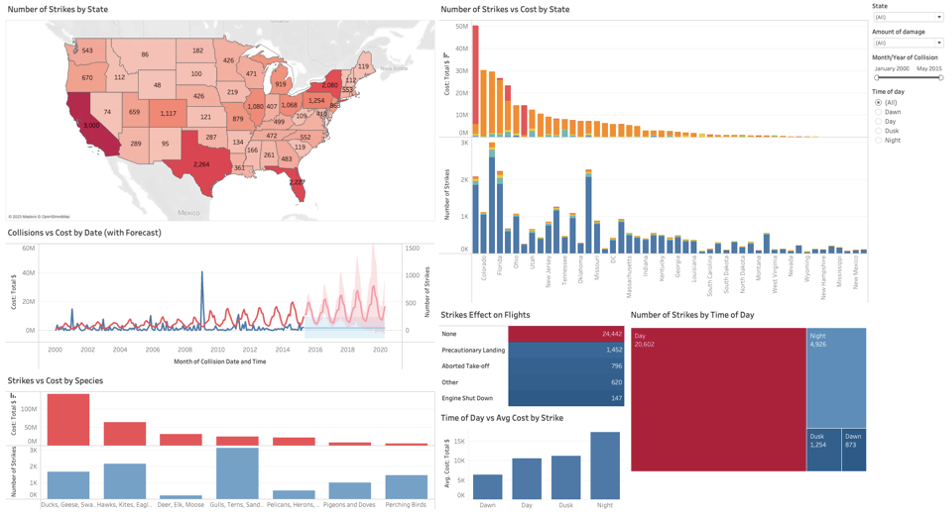

This screenshot's page, from the dashboard's own definition file:
{"tool":"tableau","page":{"name":"FAA Wildlife Strikes","canvas":[1000,1000],"units":"permille","ordinal":0},"visuals":[{"type":"worksheet","title":"Number of Strikes by State","mark":"Automatic","box":[5,9.4,446,427.7]},{"type":"worksheet","title":"Number of Strikes vs Cost by State","mark":"Automatic","rows":[" Total $","Number of Strikes"],"cols":["Origin State"],"box":[451,9.4,446.1,585.1]},{"type":"filter","title":"Number of Strikes by State","param":"[federated.020xm8v0aof4rc15dpkit0j4yc2a].[none:Origin State:nk]","box":[897.1,9.4,97.9,61.1]},{"type":"filter","title":"Number of Strikes vs Cost by State","param":"[federated.020xm8v0aof4rc15dpkit0j4yc2a].[none:Effect: Amount of damage (detaile","box":[897.1,70.5,97.9,61.1]},{"type":"filter","title":"Collision vs cost current and forecast 5years","param":"[federated.020xm8v0aof4rc15dpkit0j4yc2a].[tmn:Collision Date and Time:qk]","box":[897.1,131.6,97.9,81.1]},{"type":"filter","title":"Number of Strikes by Time of Day","param":"[federated.020xm8v0aof4rc15dpkit0j4yc2a].[Time of day set]","box":[897.1,212.7,97.9,149.2]},{"type":"worksheet","title":"Collision vs cost current and forecast 5years","mark":"Automatic","rows":[" Total $","Number of Strikes"],"cols":["Collision Date and Time"],"box":[5,437.1,446,284.4]},{"type":"worksheet","title":"Strikes Effect on Flights","mark":"Square","rows":[" Impact to flight"],"box":[451,594.5,195.6,198]},{"type":"worksheet","title":"Number of Strikes by Time of Day","mark":"Automatic","box":[646.6,594.5,250.5,396.1]},{"type":"worksheet","title":"Strikes vs Cost by Species","mark":"Automatic","rows":[" Total $","Number of Strikes"],"cols":[" Species Order"],"box":[5,721.5,446,269.1]},{"type":"worksheet","title":"Time of Day vs Avg Cost by Strike","mark":"Automatic","rows":[" Total $"],"cols":[" Time of day"],"box":[451,792.6,195.6,198]}]}

Visuals, with their boxes on the dashboard's canvas, which has no fixed pixel size, in thousandths of its width and height (x1, y1, x2, y2). These are canvas units, not pixel positions in the 952x514 screenshot, which may show the page scaled, cropped or inside an application window:
"Number of Strikes by State" worksheet: bbox=(5, 9, 451, 437)
"Number of Strikes vs Cost by State" worksheet: bbox=(451, 9, 897, 594)
"Number of Strikes by State" filter: bbox=(897, 9, 995, 70)
"Number of Strikes vs Cost by State" filter: bbox=(897, 70, 995, 132)
"Collision vs cost current and forecast 5years" filter: bbox=(897, 132, 995, 213)
"Number of Strikes by Time of Day" filter: bbox=(897, 213, 995, 362)
"Collision vs cost current and forecast 5years" worksheet: bbox=(5, 437, 451, 722)
"Strikes Effect on Flights" worksheet (Square marks): bbox=(451, 594, 647, 792)
"Number of Strikes by Time of Day" worksheet: bbox=(647, 594, 897, 991)
"Strikes vs Cost by Species" worksheet: bbox=(5, 722, 451, 991)
"Time of Day vs Avg Cost by Strike" worksheet: bbox=(451, 793, 647, 991)
